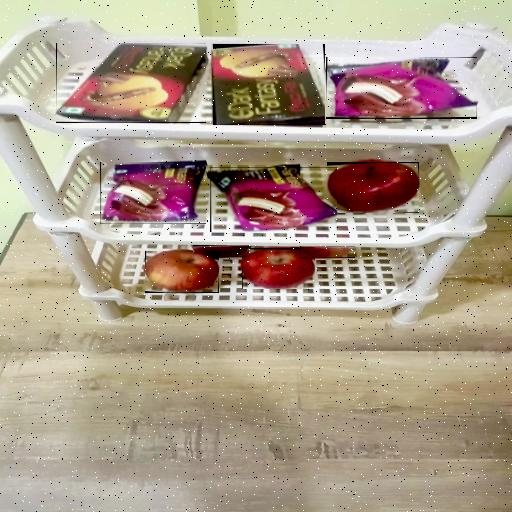Apple: (327, 162, 419, 213), (145, 251, 219, 293), (242, 248, 315, 289), (193, 245, 249, 257), (300, 246, 355, 258)
Choco Fills: (56, 43, 206, 123), (213, 44, 325, 125)
Choco Pie: (326, 57, 477, 119), (210, 167, 337, 232), (100, 162, 206, 224)
